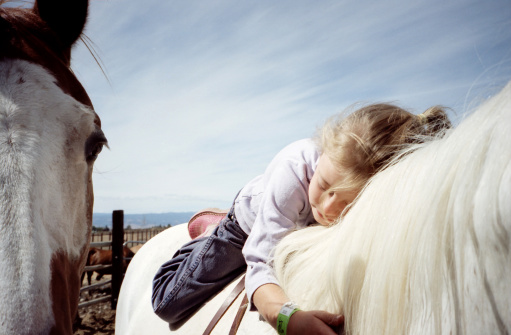deitado: (105, 114, 416, 335)
